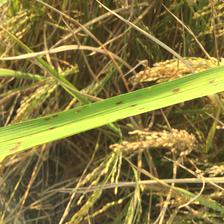0 BrownSpot: (40, 112, 62, 133), (8, 141, 26, 154), (207, 77, 220, 88), (167, 86, 182, 93), (112, 99, 123, 106)
